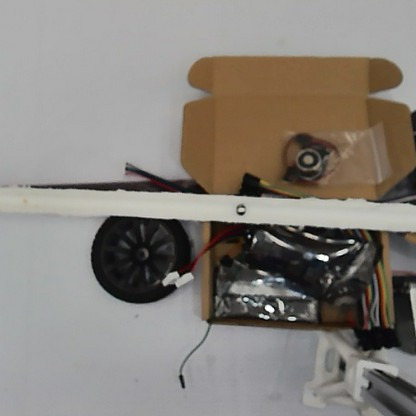ironball: (234, 200, 246, 216)
